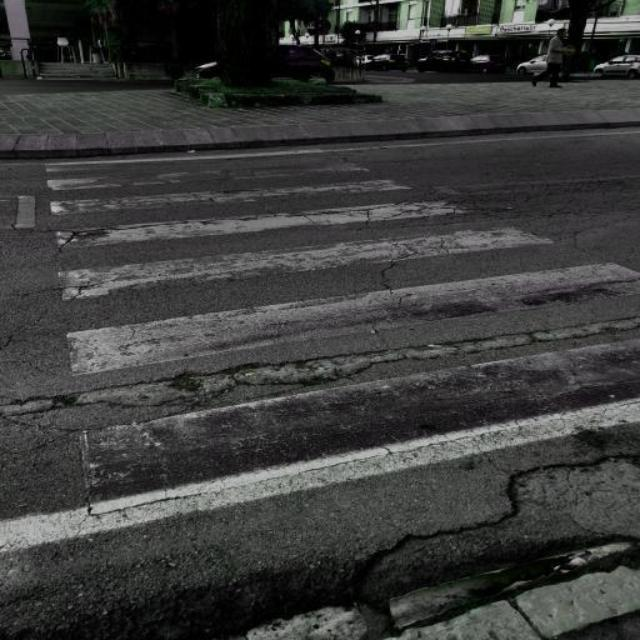sidewalk: (23, 135, 640, 523)
